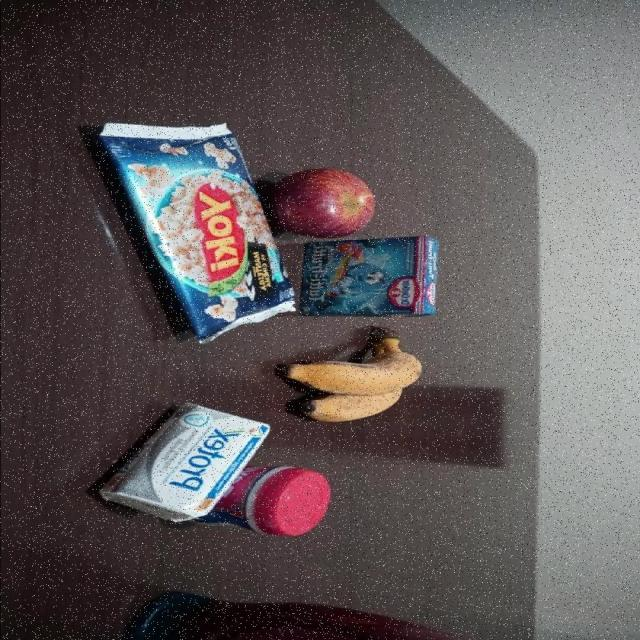Apple: (268, 167, 376, 240)
Banana: (274, 324, 425, 424)
Gelatine: (299, 235, 439, 319)
Popcorn: (90, 121, 298, 344)
Soap: (96, 402, 271, 522)
Yeast: (191, 458, 332, 538)
